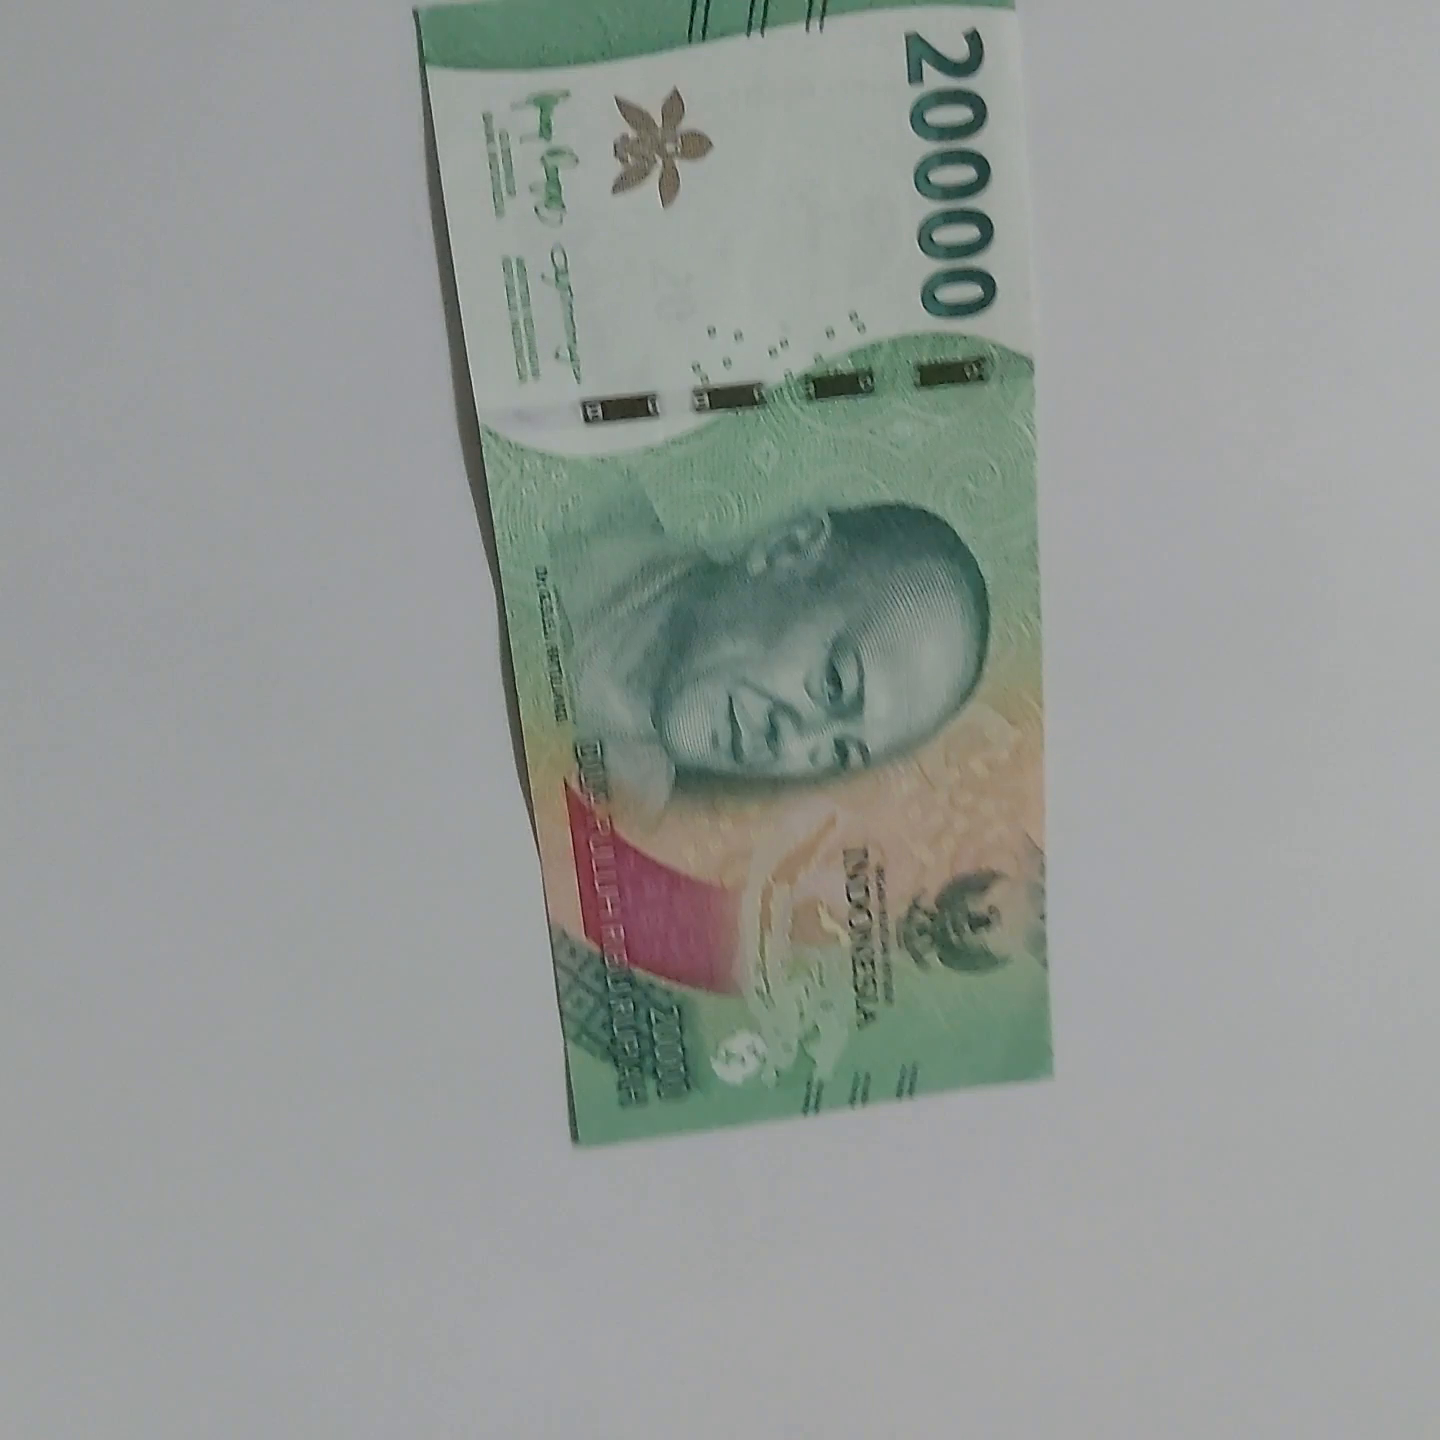20k: (407, 0, 1069, 1091)
